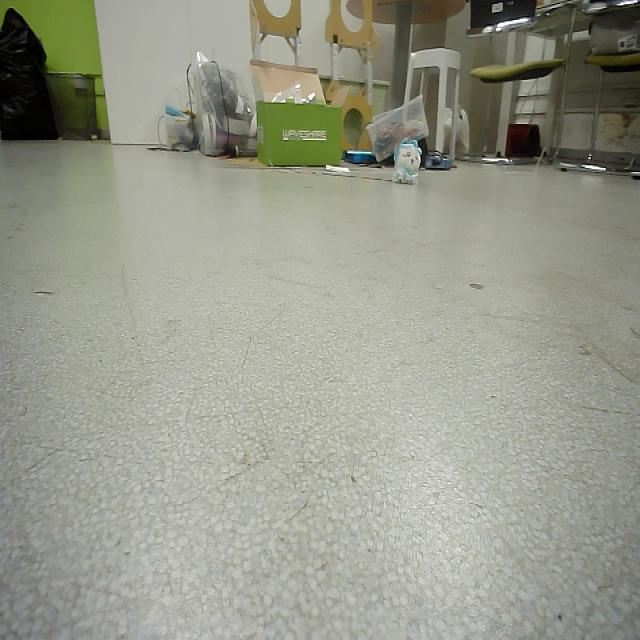xiaoba: (394, 133, 426, 188)
